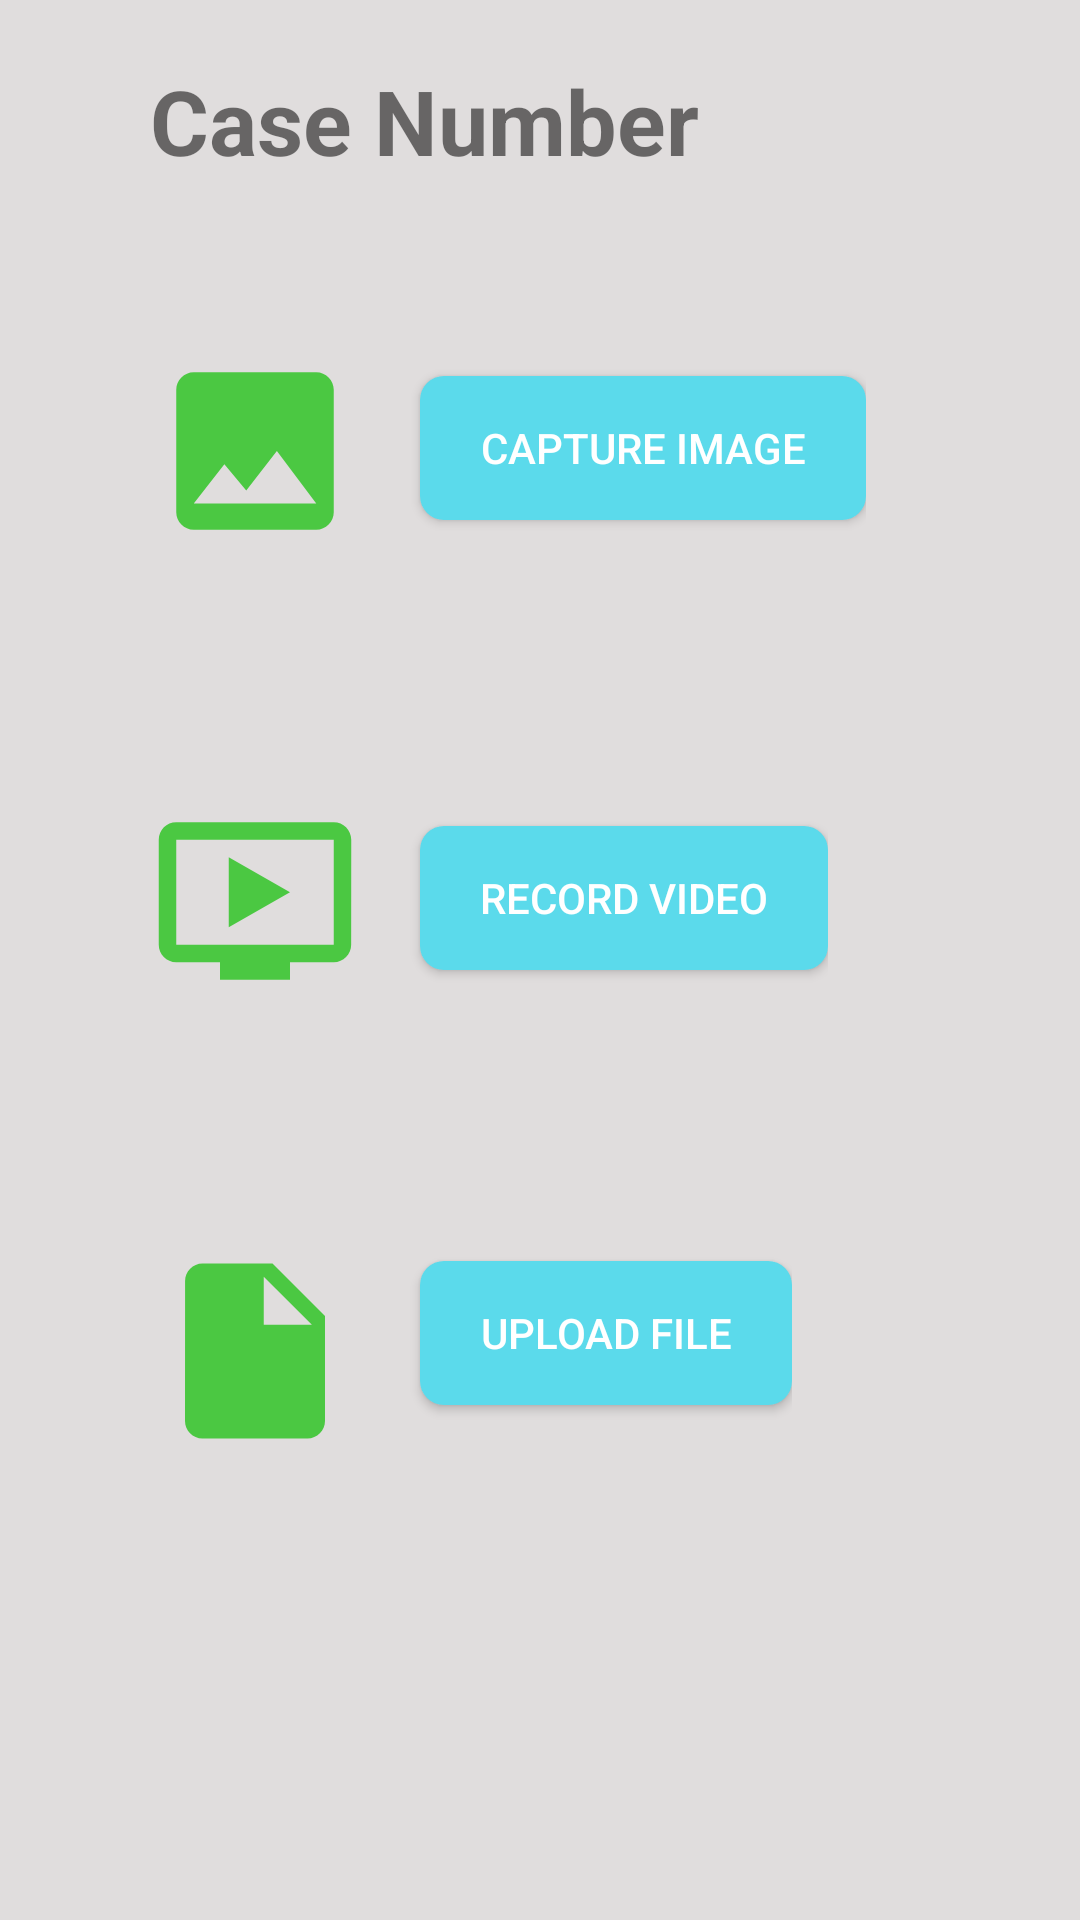

Point at icon controls on the screen. Image size 1080px×1920px, points as [x,y].
document: [255,1351]
